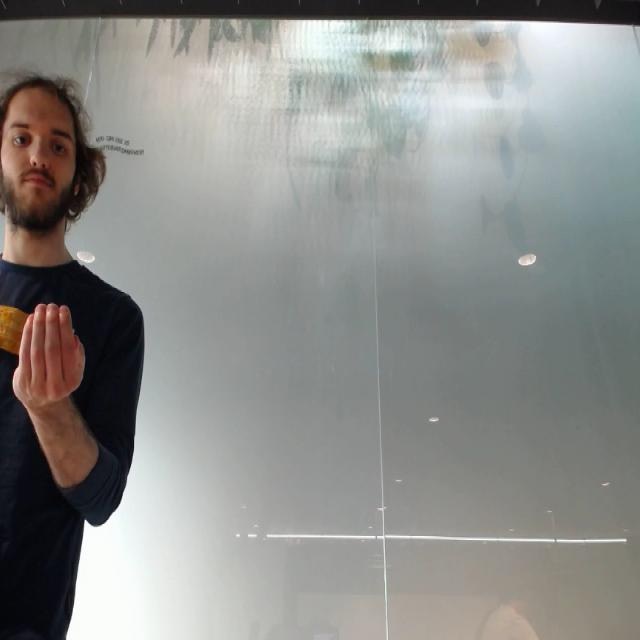forward: (9, 297, 91, 411)
